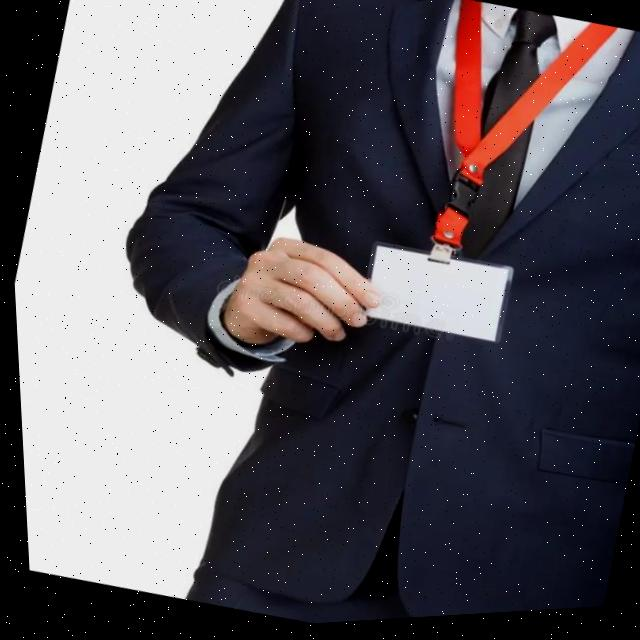id_card: (335, 0, 629, 385)
